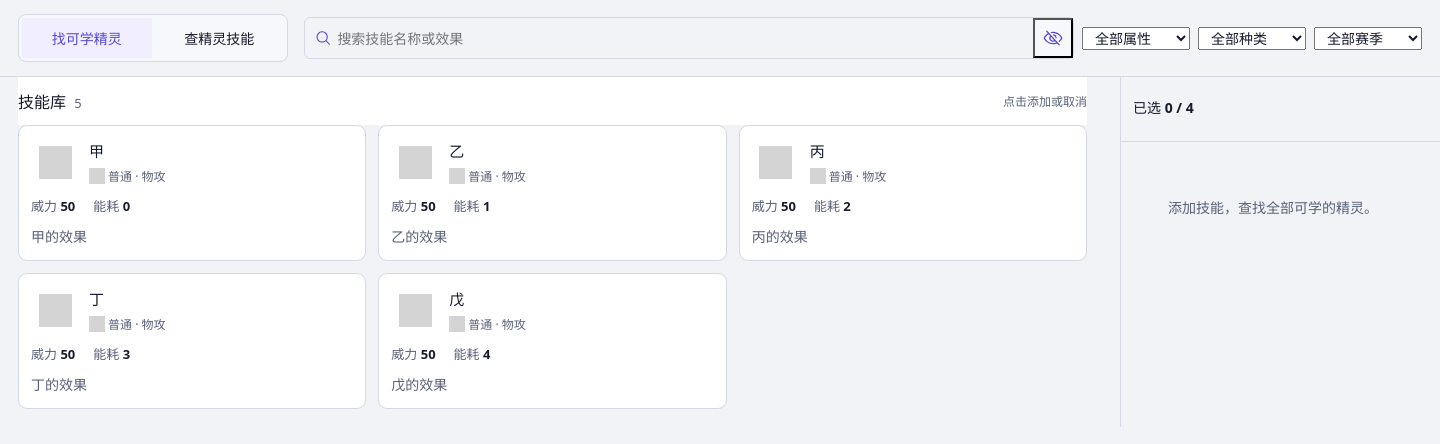
Test case: 手机搜索栏只有一个效果开关，已选标签仍可逐个删除且不重复展示结果入口
Expected: the number of buttons named "隐藏效果说明" is 1, [1033,18,1073,58]
Expected: the element named "隐藏效果说明" is shown, [304,17,1074,59]
Type "甲" into the field named "搜索技能或精灵".
click(682, 38); type("甲")  # box [337,28,1027,48]
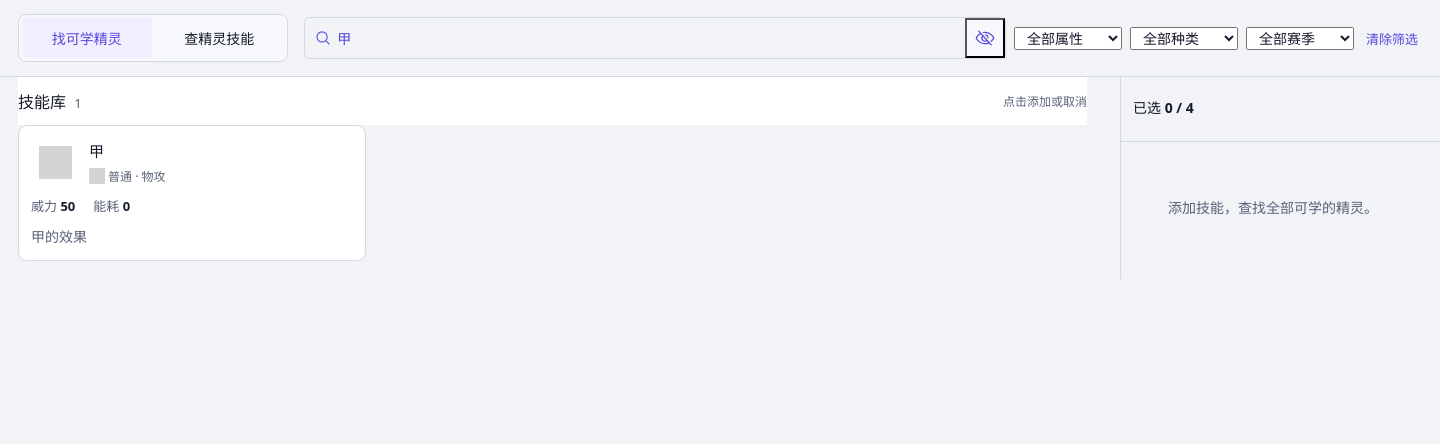
Click the button with aria-label "添加甲".
click(55, 162)  # box [18,125,366,261]
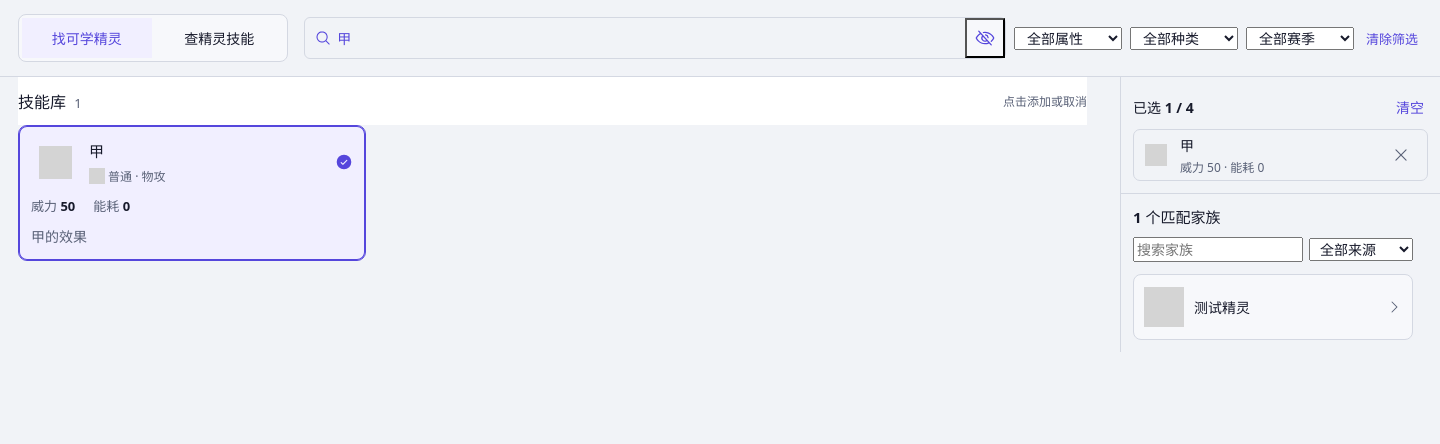
Replace the text in the field named "搜索技能或精灵" with "乙" at (648, 38), box [337,28,959,48]
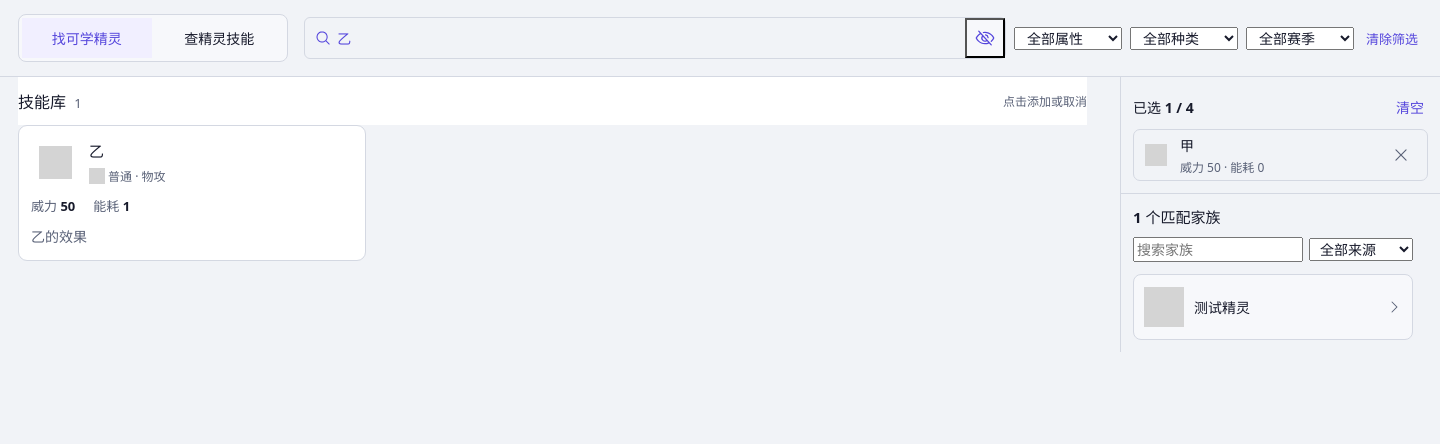
Click the button "乙 普通 · 物攻 威力 50 能耗 1 乙的效果".
click(55, 162)  # box [18,125,366,261]
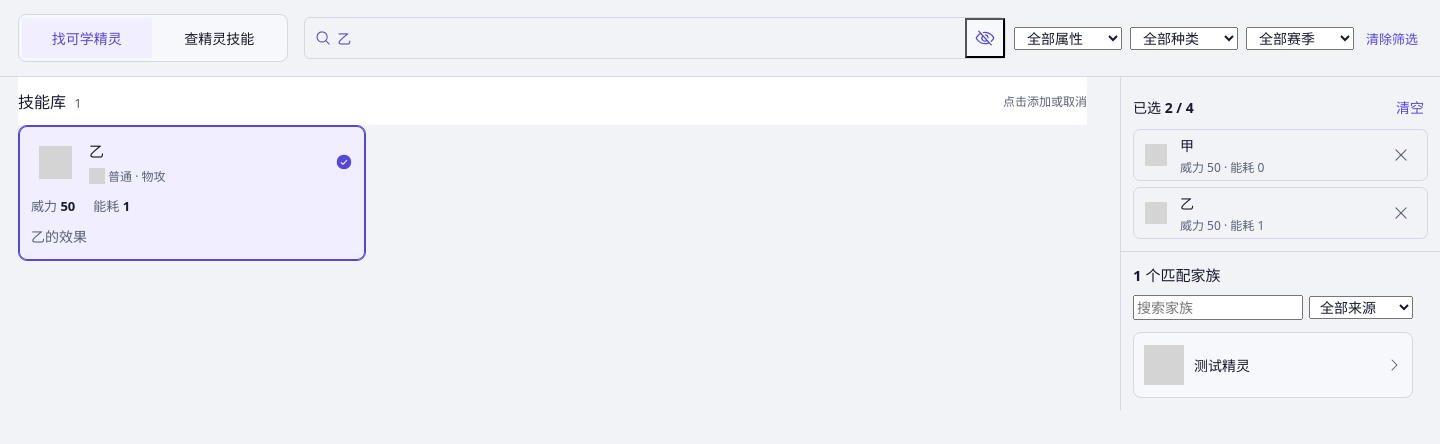
Click the button named "移除甲".
click(1401, 155)  # box [1381,135,1421,175]
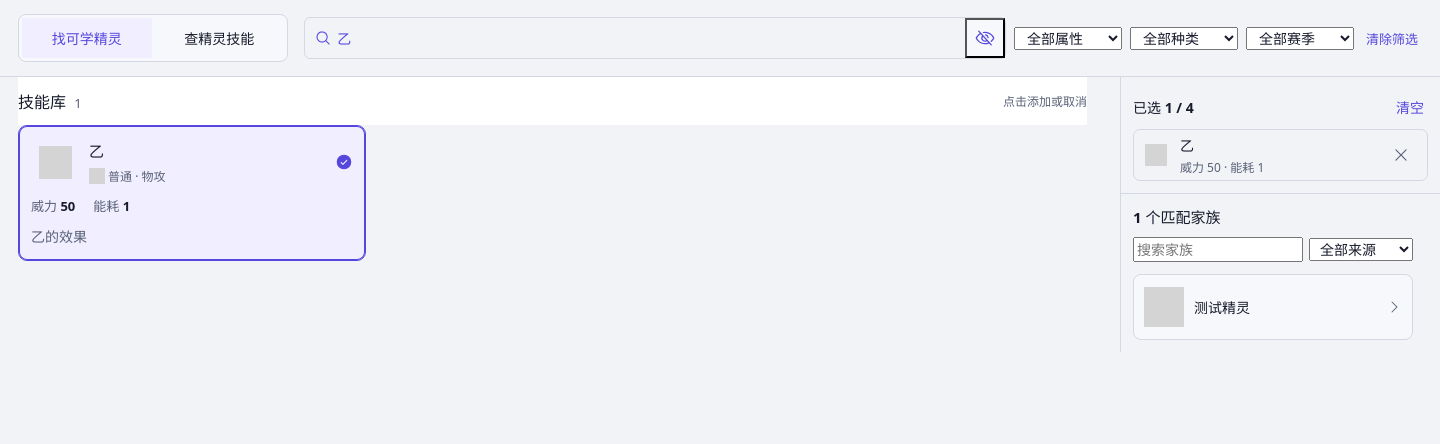
Click the button named "隐藏效果说明".
click(985, 38)  # box [965,18,1005,58]
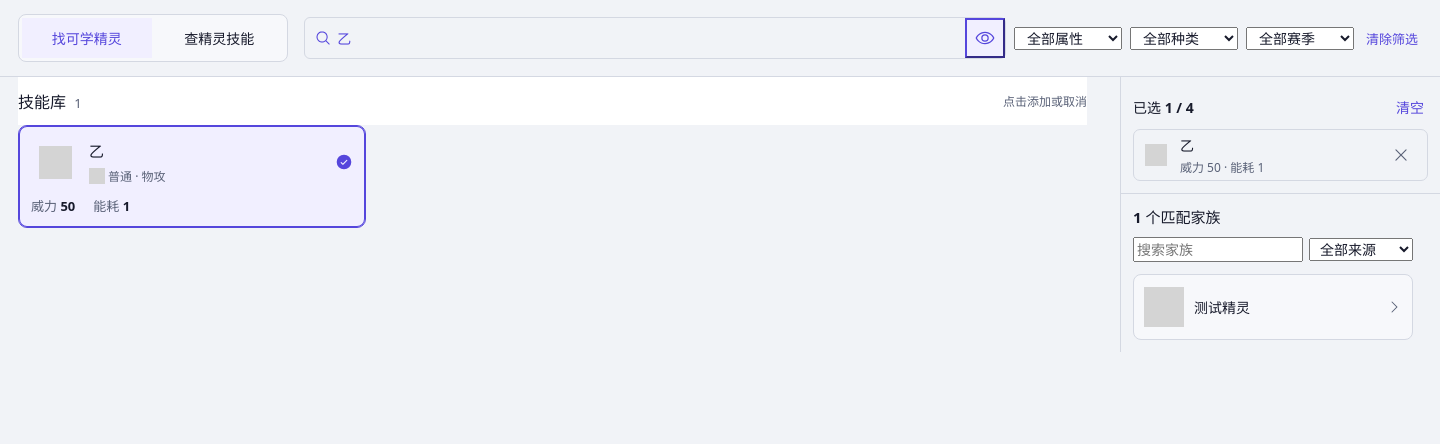
Expected: the text with class "sq-card-description" is gone
